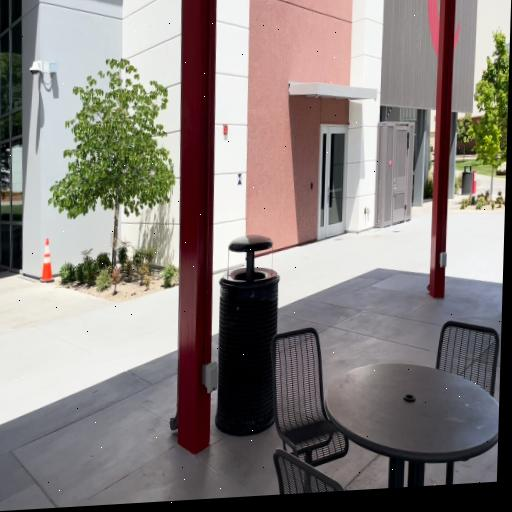target9: (238, 173, 243, 185)
